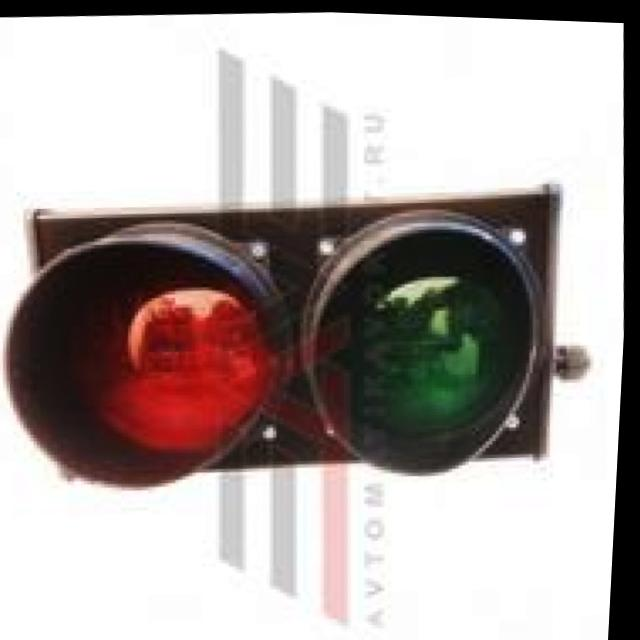green_light: (312, 175, 585, 502)
red_light: (42, 222, 315, 499)
